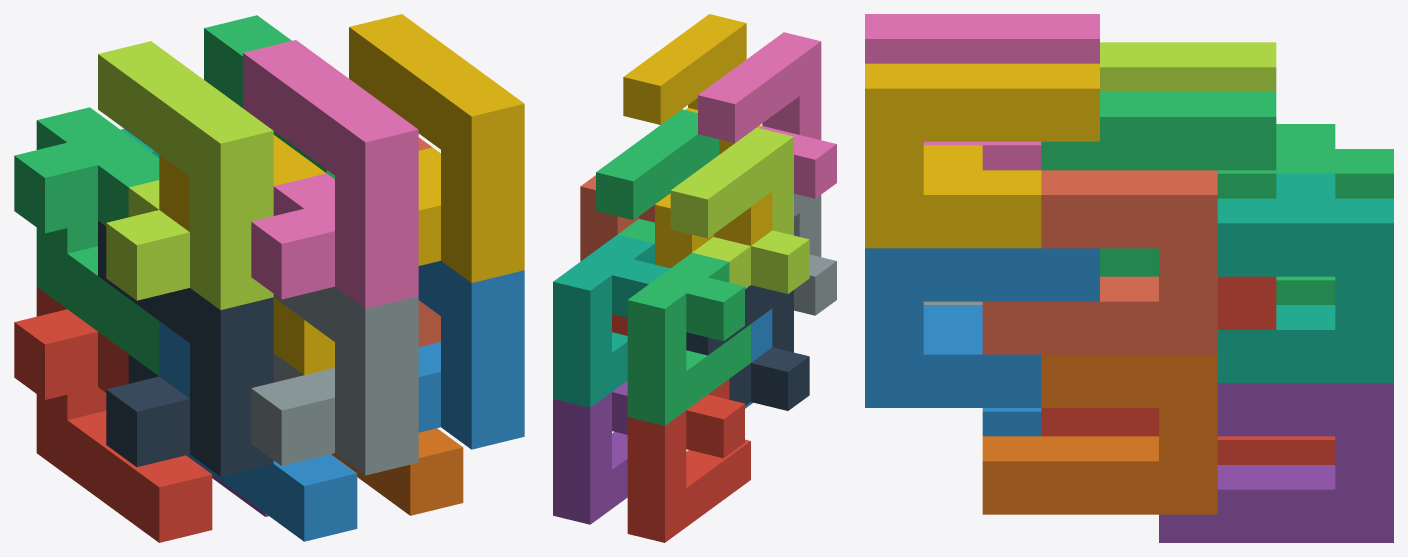
Rendered from tiling.obj.
3 views of the same model, side by side, from view 1: azimuth 30°, elevation 25°; view 2: azimuth 150°, elevation 25°; view 3: azimuth 270°, elevation 25° (orthographic). The views are drawn at different scales.
Parts seen in each view (by area): view 1: copy_2_domain_4, copy_2_domain_3, copy_2_domain_8, copy_2_domain_2, copy_1_domain_1, copy_2_domain_1, copy_1_domain_3, copy_2_domain_6, copy_1_domain_2, copy_1_domain_4, copy_1_domain_6, copy_2_domain_7 (+1 smaller); view 2: copy_1_domain_3, copy_2_domain_3, copy_1_domain_1, copy_2_domain_4, copy_1_domain_7, copy_1_domain_5, copy_2_domain_8, copy_2_domain_7, copy_2_domain_1, copy_1_domain_4, copy_2_domain_2, copy_1_domain_8 (+1 smaller); view 3: copy_2_domain_8, copy_1_domain_8, copy_1_domain_6, copy_1_domain_7, copy_2_domain_6, copy_1_domain_5, copy_2_domain_7, copy_2_domain_4, copy_1_domain_3, copy_2_domain_3, copy_2_domain_5, copy_1_domain_1 (+1 smaller).
Part boxes in pixels (<box>): copy_2_domain_4: <box>243,40,418,308</box>; copy_2_domain_3: <box>98,41,273,310</box>; copy_2_domain_8: <box>349,14,524,282</box>; copy_2_domain_2: <box>251,286,418,475</box>; copy_1_domain_1: <box>14,287,212,542</box>; copy_2_domain_1: <box>98,221,273,476</box>; copy_1_domain_3: <box>14,107,159,375</box>; copy_2_domain_6: <box>418,261,524,449</box>; copy_1_domain_2: <box>159,321,357,541</box>; copy_1_domain_4: <box>159,135,334,375</box>; copy_1_domain_6: <box>331,428,463,515</box>; copy_2_domain_7: <box>204,15,334,178</box>; copy_1_domain_3: <box>627,252,750,425</box>; copy_2_domain_3: <box>670,127,809,293</box>; copy_1_domain_1: <box>627,379,750,542</box>; copy_2_domain_4: <box>698,32,836,198</box>; copy_1_domain_7: <box>553,234,670,407</box>; copy_1_domain_5: <box>553,381,627,524</box>; copy_2_domain_8: <box>623,14,761,154</box>; copy_2_domain_7: <box>596,109,719,243</box>; copy_2_domain_1: <box>686,285,809,410</box>; copy_1_domain_4: <box>655,192,772,268</box>; copy_2_domain_2: <box>794,193,836,315</box>; copy_1_domain_8: <box>580,175,654,261</box>; copy_2_domain_8: <box>865,63,1099,248</box>; copy_1_domain_8: <box>982,170,1217,354</box>; copy_1_domain_6: <box>982,354,1217,514</box>; copy_1_domain_7: <box>1217,173,1393,383</box>; copy_2_domain_6: <box>865,248,1099,407</box>; copy_1_domain_5: <box>1159,383,1393,542</box>; copy_2_domain_7: <box>1041,92,1276,276</box>; copy_2_domain_4: <box>865,14,1099,170</box>; copy_1_domain_3: <box>1217,124,1393,304</box>; copy_2_domain_3: <box>1100,42,1276,91</box>; copy_2_domain_5: <box>1041,276,1276,436</box>; copy_1_domain_1: <box>1217,436,1335,464</box>.
Size of the model in its own units: 5 by 9 by 9.
